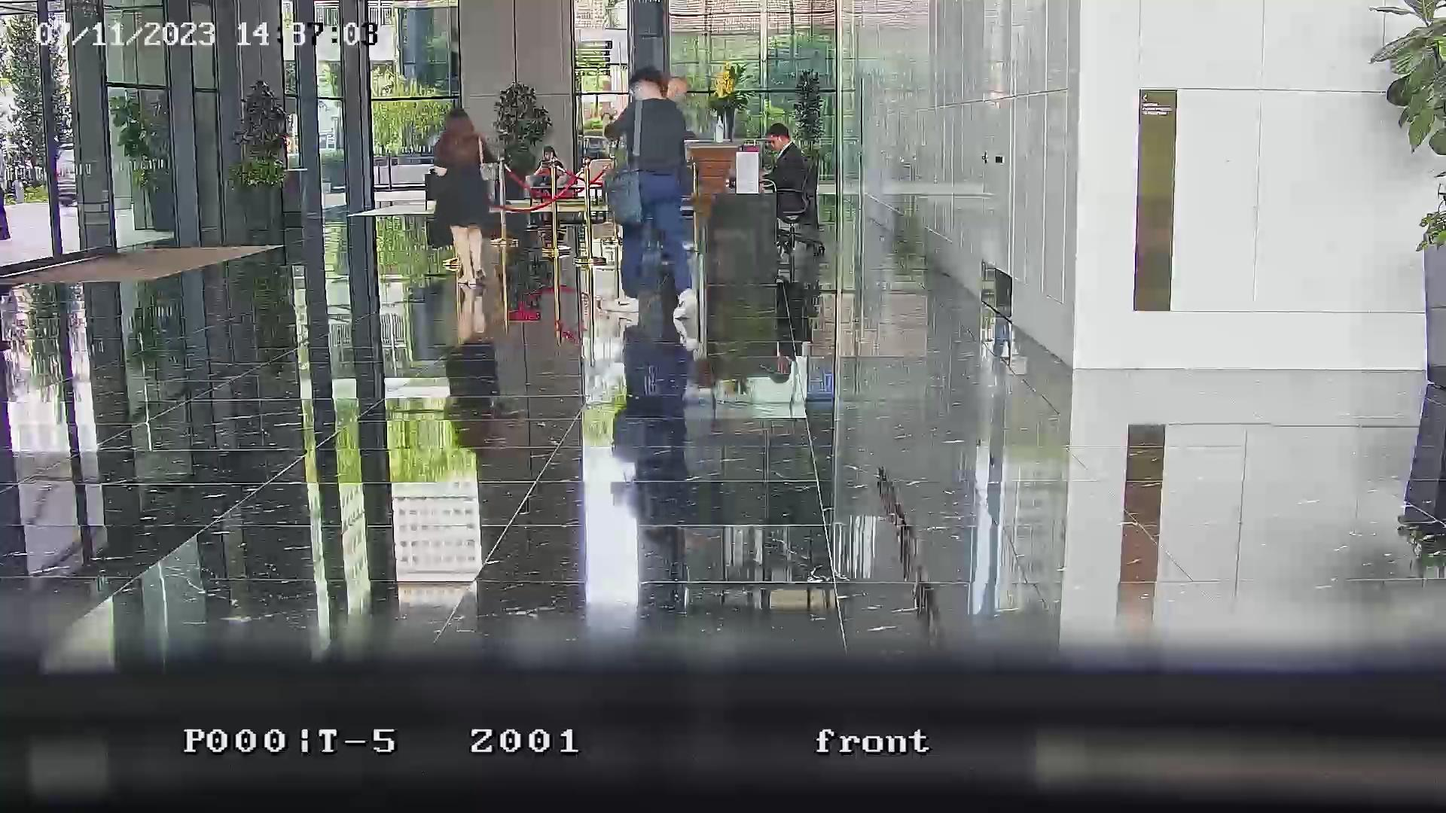person: (606, 65, 694, 306), (426, 105, 496, 291), (761, 123, 819, 225), (534, 145, 567, 202)
